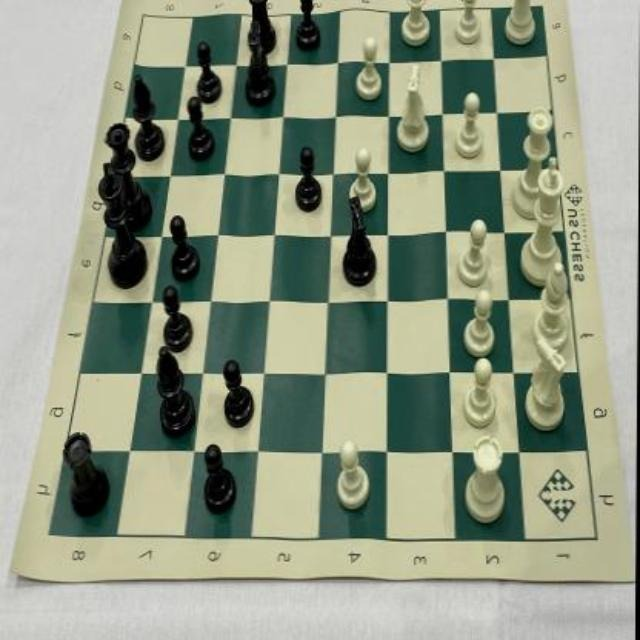black-bishop: (156, 345, 196, 439), (134, 72, 163, 162)
black-king: (97, 161, 147, 287)
black-knight: (341, 195, 381, 289), (245, 17, 275, 107)
black-pawn: (204, 443, 239, 515), (221, 360, 256, 430), (169, 213, 202, 285), (161, 289, 197, 353), (294, 144, 323, 214), (187, 98, 217, 162), (195, 40, 222, 107), (294, 0, 321, 52)
black-queen: (103, 119, 146, 220)
black-rook: (61, 431, 110, 519), (245, 0, 278, 56)
white-bishop: (532, 257, 573, 352), (398, 0, 432, 46)
white-king: (521, 157, 568, 287)
white-knight: (525, 334, 571, 430), (393, 61, 433, 154)
white-pawn: (337, 437, 373, 510), (463, 354, 496, 430), (456, 220, 492, 286), (465, 287, 497, 357), (456, 91, 484, 158), (350, 144, 377, 208), (356, 38, 382, 102), (453, 0, 483, 47)
white-queen: (511, 104, 557, 220)
white-rook: (464, 433, 507, 523), (502, 0, 540, 47)
